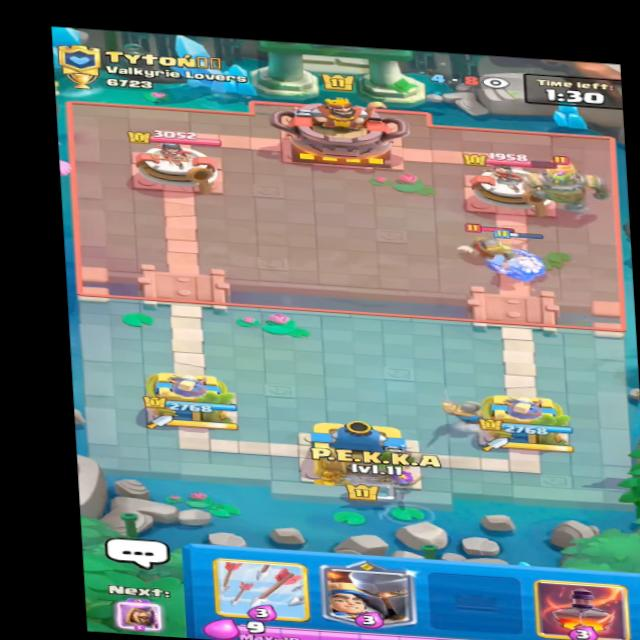goblin-machine: (517, 150, 609, 217)
knight: (451, 215, 535, 263)
